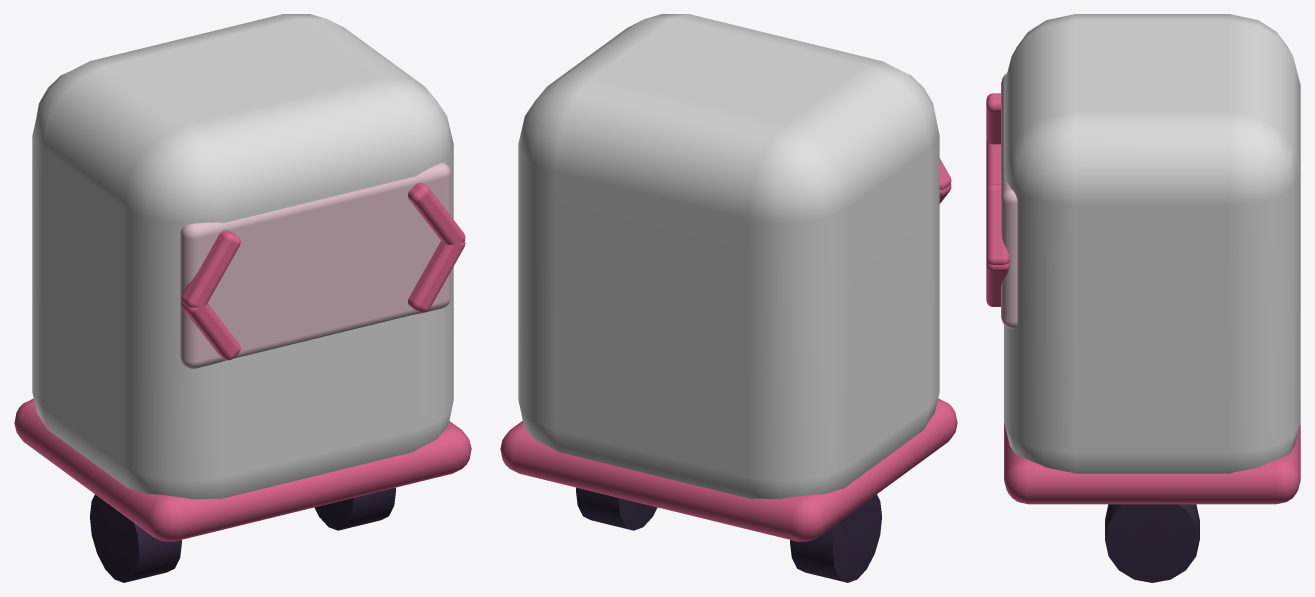
The model's file is agent-code.glb.
3 views of the same model, side by side, from view 1: azimuth 30°, elevation 25°; view 2: azimuth 150°, elevation 25°; view 3: azimuth 270°, elevation 25° (orthographic). The views are drawn at different scales.
Parts seen in each view (by area): view 1: agentCode; view 2: agentCode; view 3: agentCode.
Part boxes in pixels (<box>): agentCode: <box>14,14,471,582</box>; agentCode: <box>500,14,957,582</box>; agentCode: <box>986,14,1300,582</box>.
Bounding box in the file's own units: 0.6 × 0.85 × 0.53.
